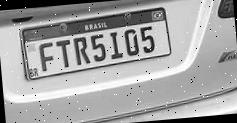placa_mercosul: (22, 6, 168, 78)
